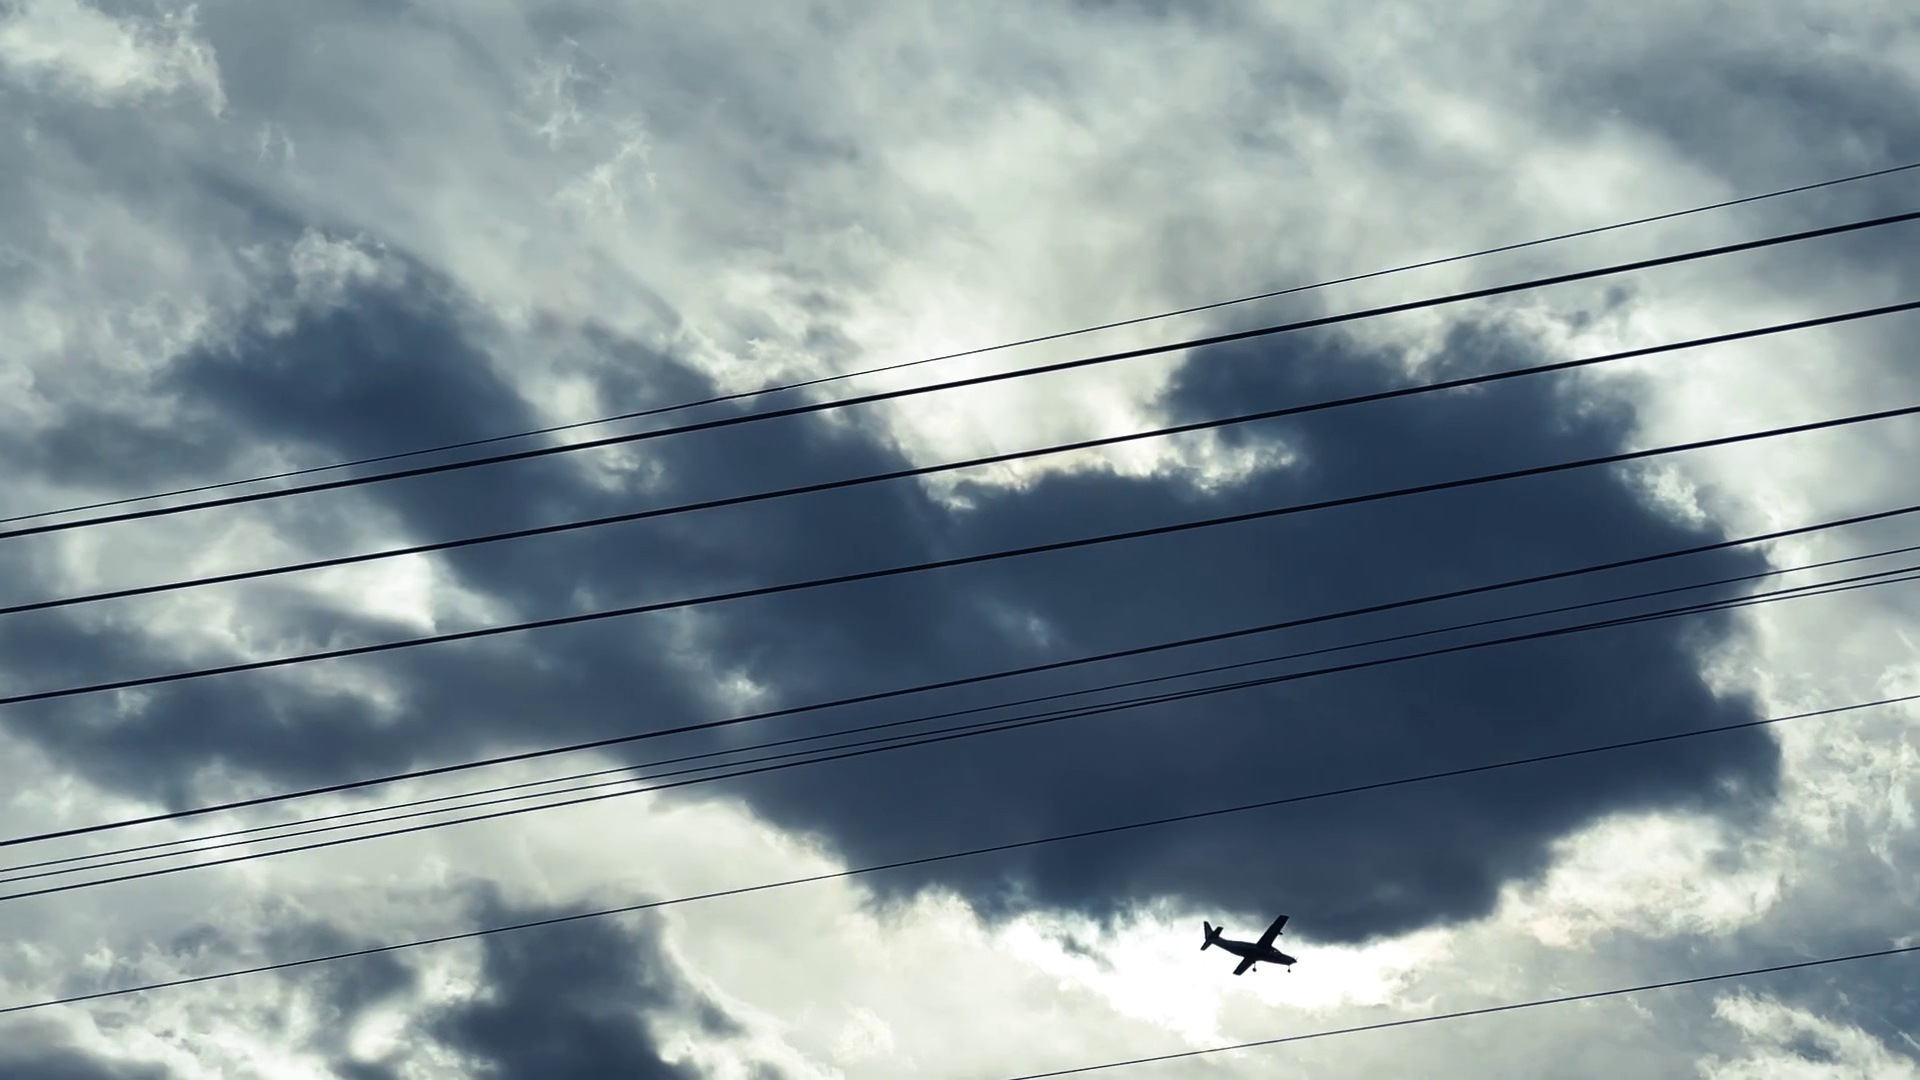plane: (1200, 914, 1298, 975)
